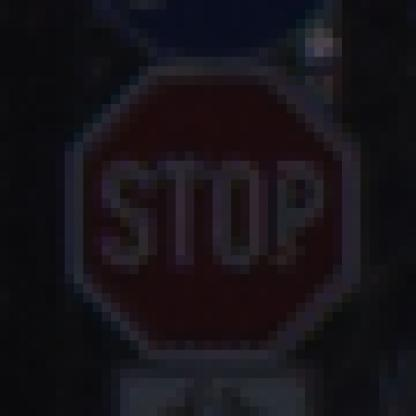stop: (60, 54, 360, 371)
